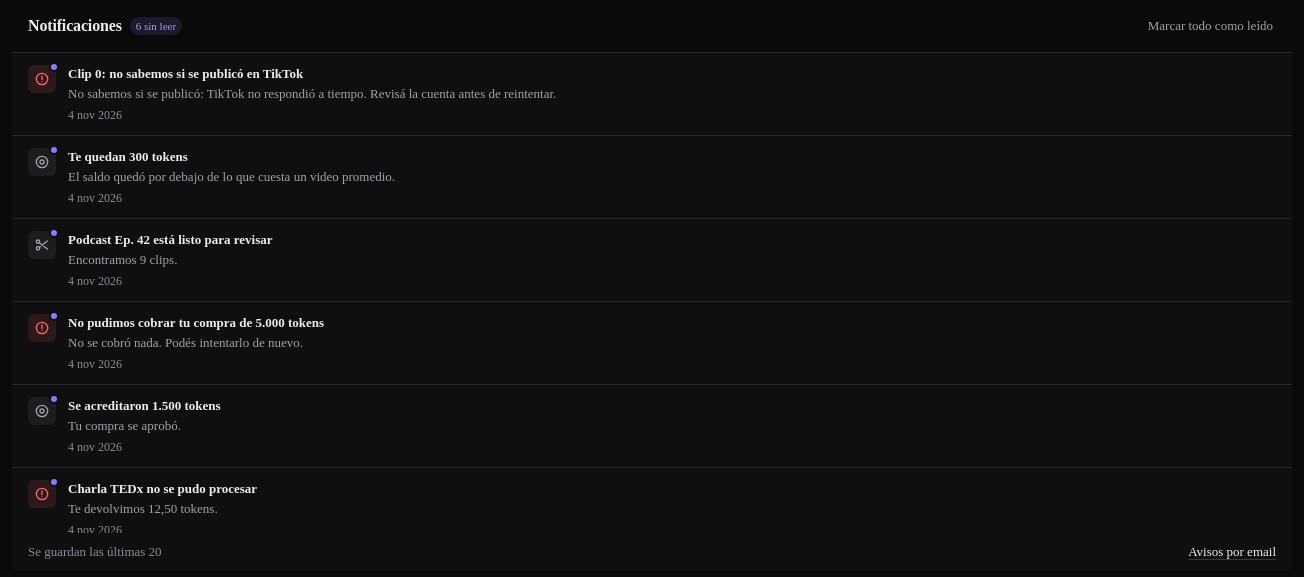
Scenario: J2 · la campana con las respuestas del backend › «Marcar todo como leído» lo pide una vez y vuelve a leer la lista
Click the button "Marcar todo como leído": (1210,26) [1137,10,1284,42]
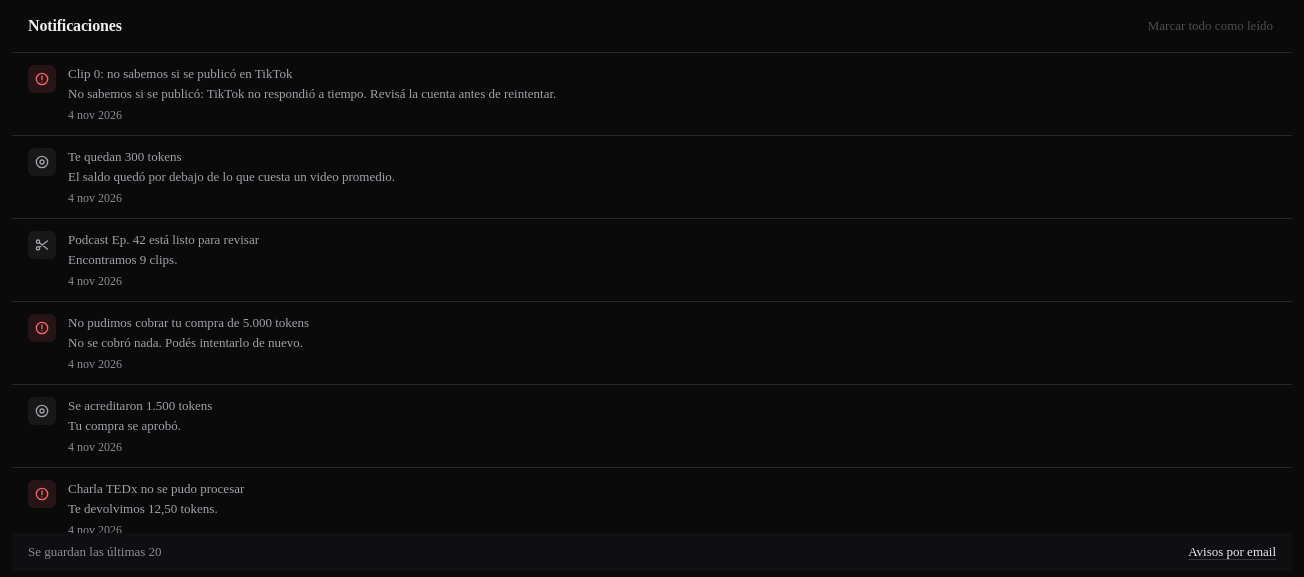
Now the text "sin leer" is gone
Now the button "Marcar todo como leído" is disabled, box [1137,10,1284,42]
